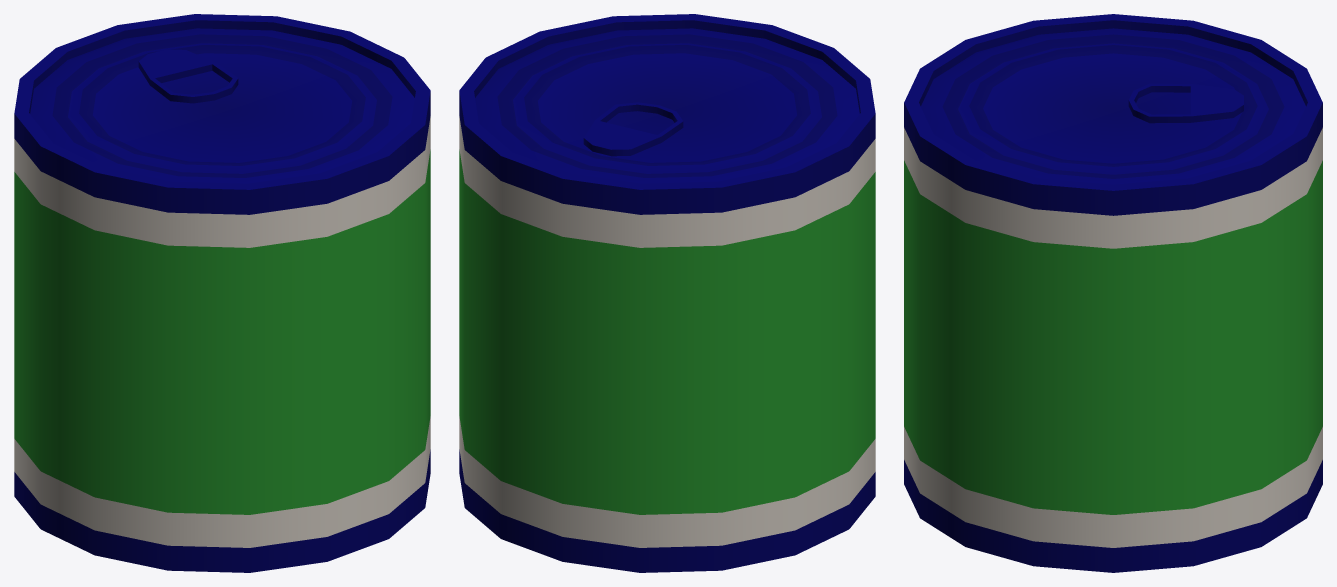
File: consumables-cannedfood-canofpeas_v1.fbx
The picture shows the model from 3 angles, left to right: view 1: azimuth 30°, elevation 25°; view 2: azimuth 150°, elevation 25°; view 3: azimuth 270°, elevation 25°; orthographic projection.
Parts seen in each view (by area): view 1: CanOfPeas_base, CanOfPeas_refl; view 2: CanOfPeas_base, CanOfPeas_refl; view 3: CanOfPeas_base, CanOfPeas_refl.
Part boxes in pixels (bbox=[...]): CanOfPeas_base: bbox=[14, 116, 430, 547]; CanOfPeas_refl: bbox=[14, 14, 430, 572]; CanOfPeas_base: bbox=[459, 116, 875, 547]; CanOfPeas_refl: bbox=[459, 14, 875, 572]; CanOfPeas_base: bbox=[904, 127, 1322, 547]; CanOfPeas_refl: bbox=[904, 14, 1322, 572].
Size of the model in its own units: 0.1793 by 0.1816 by 0.1793.
